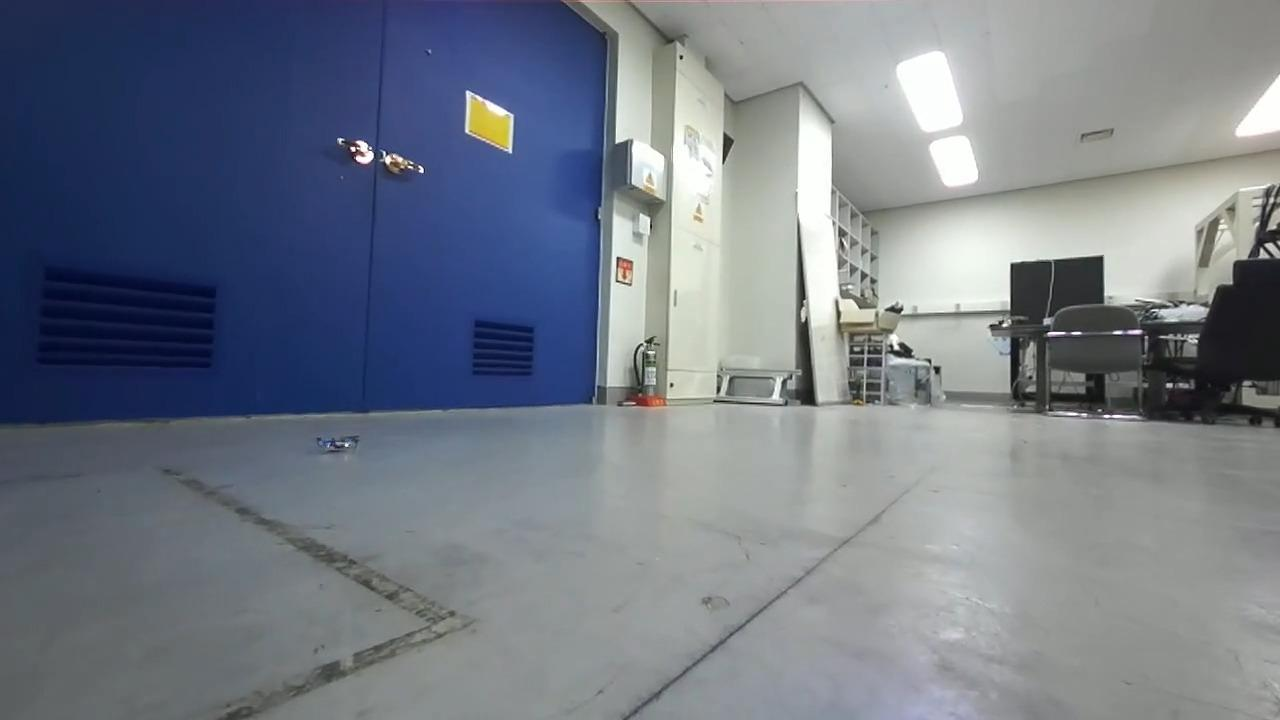crazyflie: (311, 427, 363, 457)
